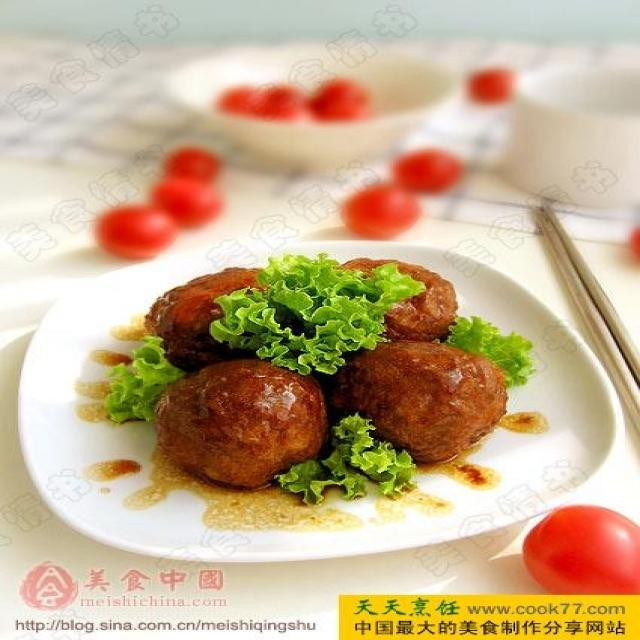Meatball: (135, 354, 339, 494), (325, 333, 518, 472)
